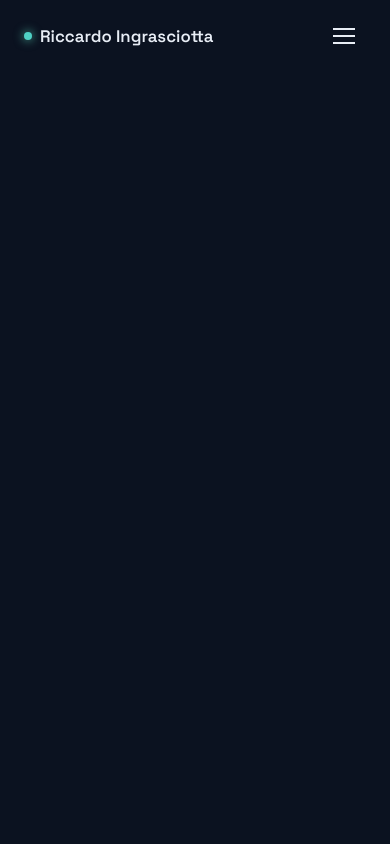
it: Header › opens a sidebar with the links, labelled and wired to the menu button
Click the button named "Open navigation menu": [344, 36] box x1=322 y1=14 x2=366 y2=58
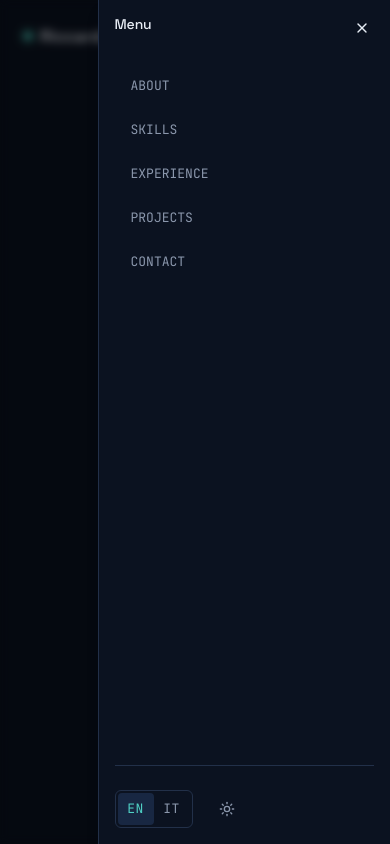
Check: the button named "Open navigation menu" is expanded, box x1=322 y1=14 x2=366 y2=58
